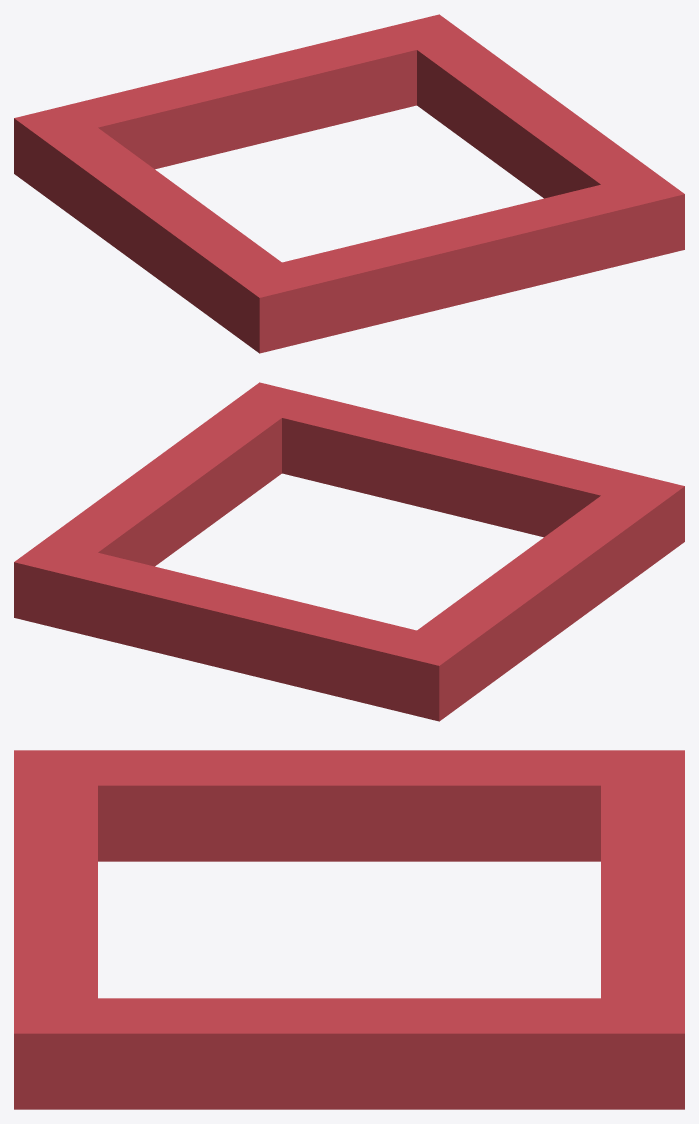
3 views of the same model, one above another, from view 1: azimuth 30°, elevation 25°; view 2: azimuth 150°, elevation 25°; view 3: azimuth 270°, elevation 25° (orthographic). The views are drawn at different scales.
Visible parts, largest first — view 1: ChunkMesh; view 2: ChunkMesh; view 3: ChunkMesh.
Boxes of the visible parts, left/top/right/bottom form: ChunkMesh: left=14, top=14, right=684, bottom=353; ChunkMesh: left=14, top=382, right=684, bottom=721; ChunkMesh: left=14, top=750, right=684, bottom=1109.
Size of the model in its own units: 16 by 2 by 16.
